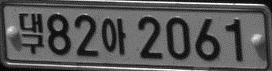0: (165, 16, 191, 60)
1: (224, 18, 248, 62)
2: (74, 13, 99, 57), (137, 15, 162, 59)
6: (194, 18, 220, 62)
8: (46, 13, 71, 55)
대구_V: (18, 12, 44, 54)
아: (101, 17, 126, 55)
